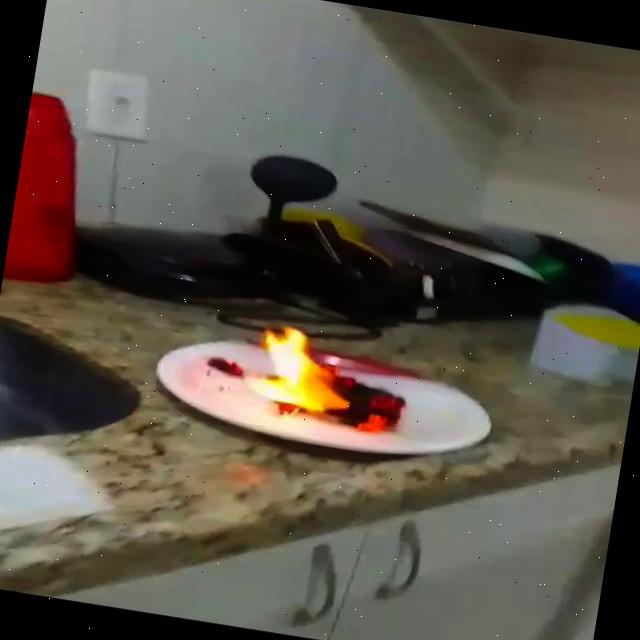fire: (246, 322, 419, 439)
